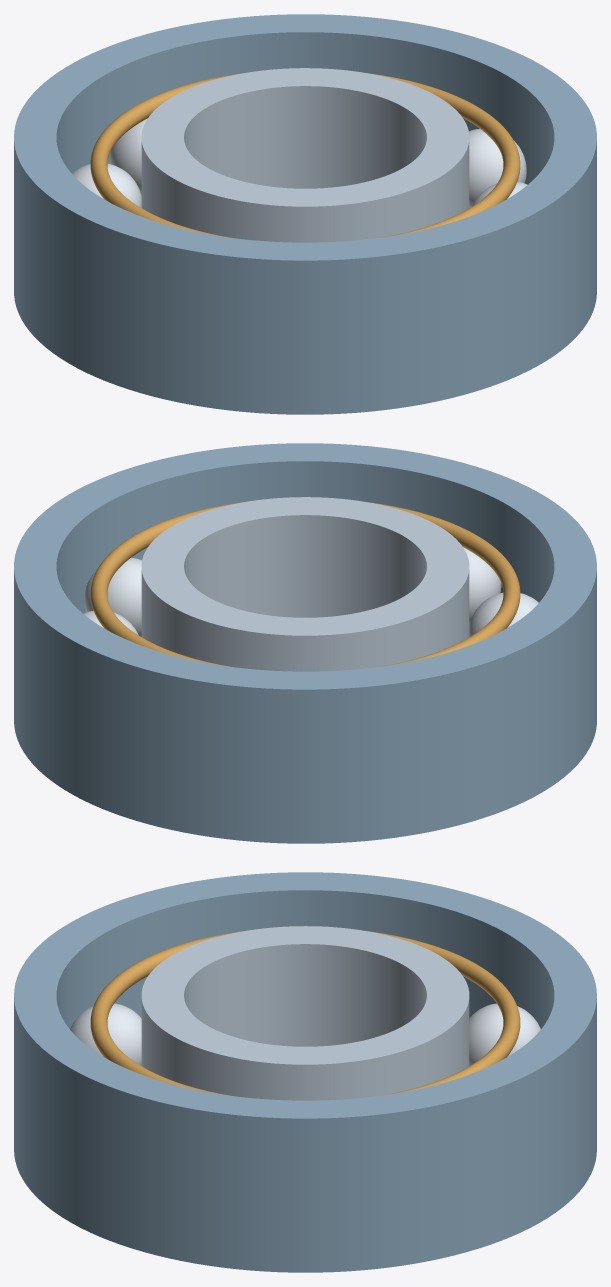
The model's file is bearing.glb.
3 views of the same model, one above another, from view 1: azimuth 30°, elevation 25°; view 2: azimuth 150°, elevation 25°; view 3: azimuth 270°, elevation 25° (orthographic).
Visible parts, largest first — view 1: 外圈 Ø48 / Ø41, 内圈 Ø27 / Ø20, 保持架示意环, 滚珠 1 · Ø7, 滚珠 4 · Ø7, 滚珠 5 · Ø7; view 2: 外圈 Ø48 / Ø41, 内圈 Ø27 / Ø20, 保持架示意环, 滚珠 1 · Ø7, 滚珠 8 · Ø7, 滚珠 7 · Ø7; view 3: 外圈 Ø48 / Ø41, 内圈 Ø27 / Ø20, 保持架示意环, 滚珠 4 · Ø7, 滚珠 8 · Ø7.
Boxes of the visible parts, bbox=[...] form: 外圈 Ø48 / Ø41: bbox=[14, 14, 596, 414]; 内圈 Ø27 / Ø20: bbox=[141, 68, 469, 242]; 保持架示意环: bbox=[90, 73, 520, 237]; 滚珠 1 · Ø7: bbox=[469, 128, 526, 207]; 滚珠 4 · Ø7: bbox=[109, 118, 147, 195]; 滚珠 5 · Ø7: bbox=[72, 163, 141, 207]; 外圈 Ø48 / Ø41: bbox=[14, 443, 596, 843]; 内圈 Ø27 / Ø20: bbox=[141, 497, 469, 671]; 保持架示意环: bbox=[90, 502, 520, 666]; 滚珠 1 · Ø7: bbox=[84, 557, 141, 636]; 滚珠 8 · Ø7: bbox=[463, 547, 501, 624]; 滚珠 7 · Ø7: bbox=[469, 592, 538, 636]; 外圈 Ø48 / Ø41: bbox=[14, 872, 596, 1272]; 内圈 Ø27 / Ø20: bbox=[141, 926, 469, 1100]; 保持架示意环: bbox=[90, 931, 520, 1095]; 滚珠 4 · Ø7: bbox=[469, 1003, 540, 1065]; 滚珠 8 · Ø7: bbox=[70, 1003, 141, 1065].
Bounding box in the file's own units: 0.048 × 0.014 × 0.048.
